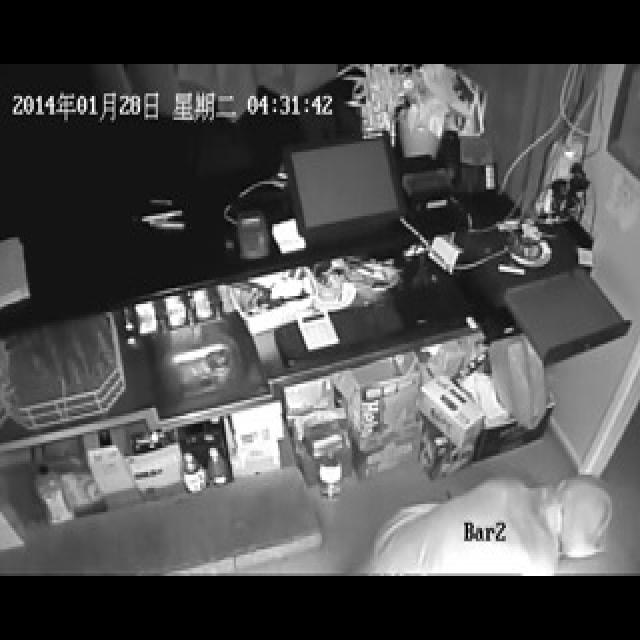thief: (433, 455, 616, 579)
